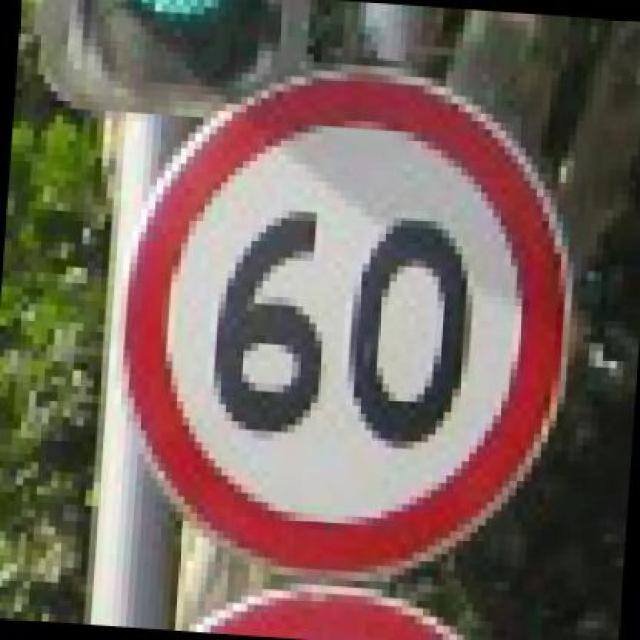Limite-60: (116, 61, 574, 584)
